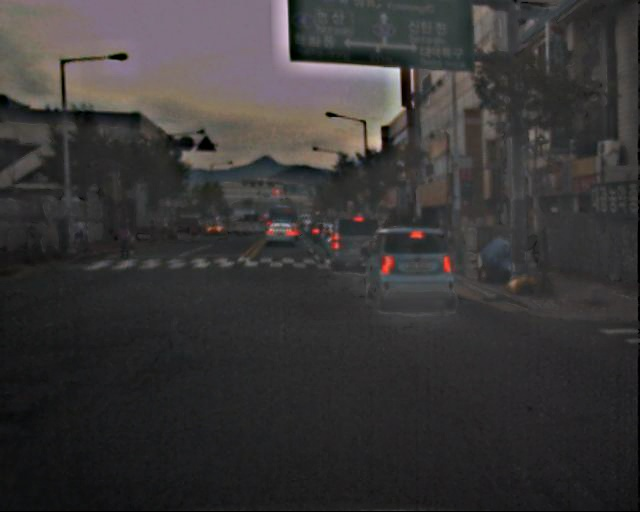person: (59, 217, 92, 250), (116, 222, 135, 263)
